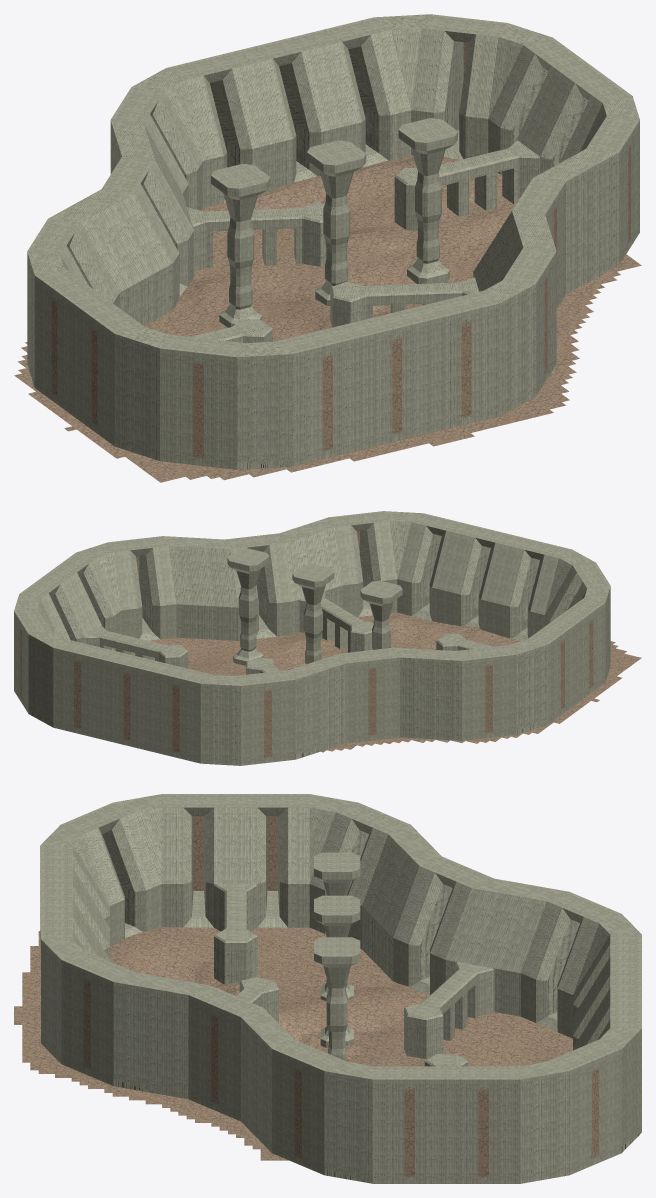
The model's file is BARREN 01.fbx.
3 views of the same model, one above another, from view 1: azimuth 30°, elevation 25°; view 2: azimuth 150°, elevation 25°; view 3: azimuth 270°, elevation 25° (orthographic). The views are drawn at different scales.
Visible parts, largest first — view 1: BARRTEN 01 arena, GLASS BARREN 01; view 2: BARRTEN 01 arena, GLASS BARREN 01; view 3: BARRTEN 01 arena, GLASS BARREN 01.
Boxes of the visible parts, <box> form: BARRTEN 01 arena: <box>14,14,641,482</box>; GLASS BARREN 01: <box>51,42,631,458</box>; BARRTEN 01 arena: <box>14,511,641,765</box>; GLASS BARREN 01: <box>20,531,593,757</box>; BARRTEN 01 arena: <box>14,794,641,1183</box>; GLASS BARREN 01: <box>83,816,599,1176</box>.
Bounding box in the file's own units: 86.85 × 19.89 × 78.32.
